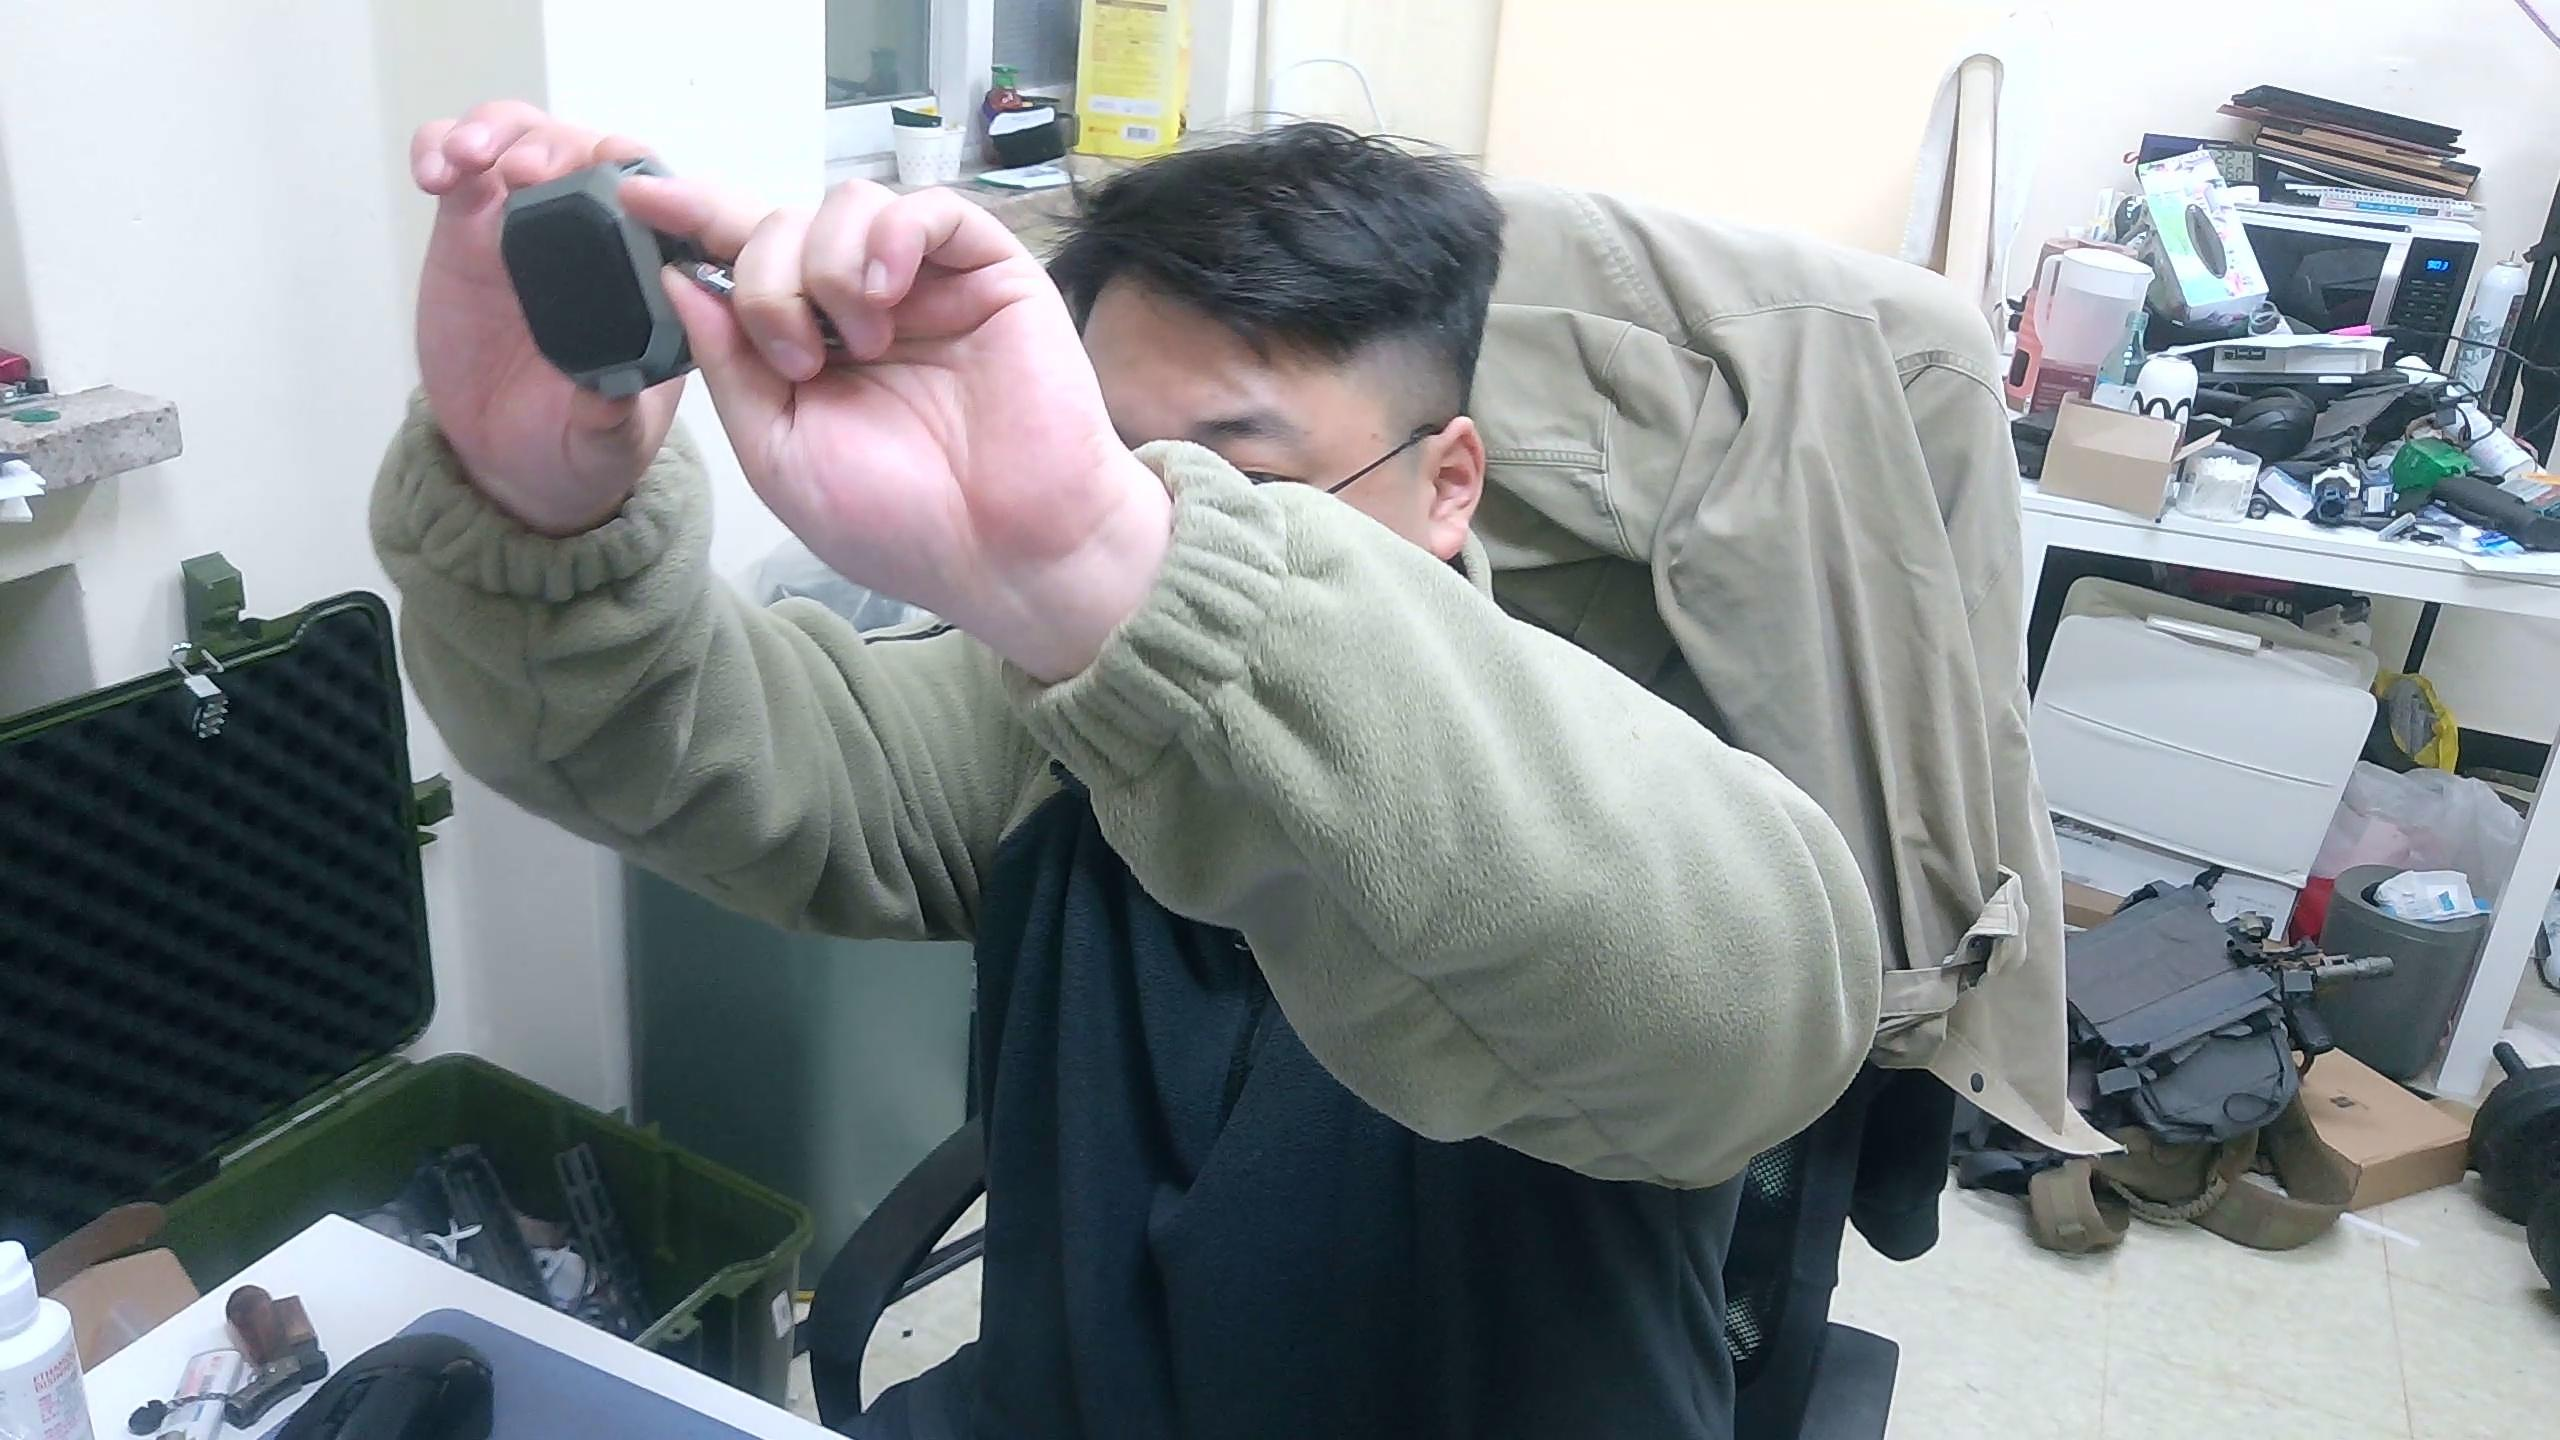blue_pliers: (498, 155, 703, 401)
